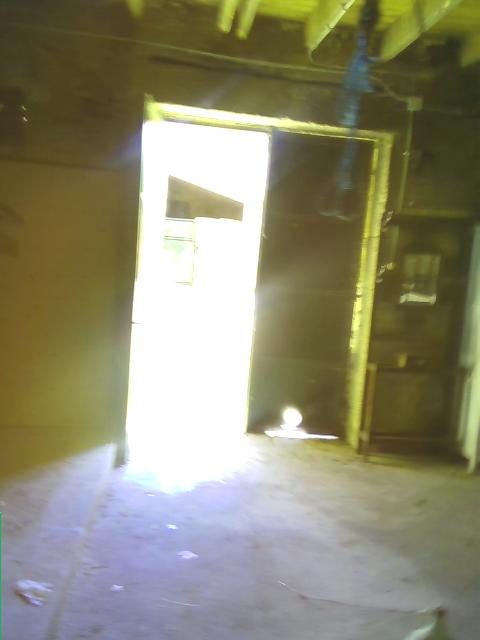open_door: (123, 99, 269, 438)
